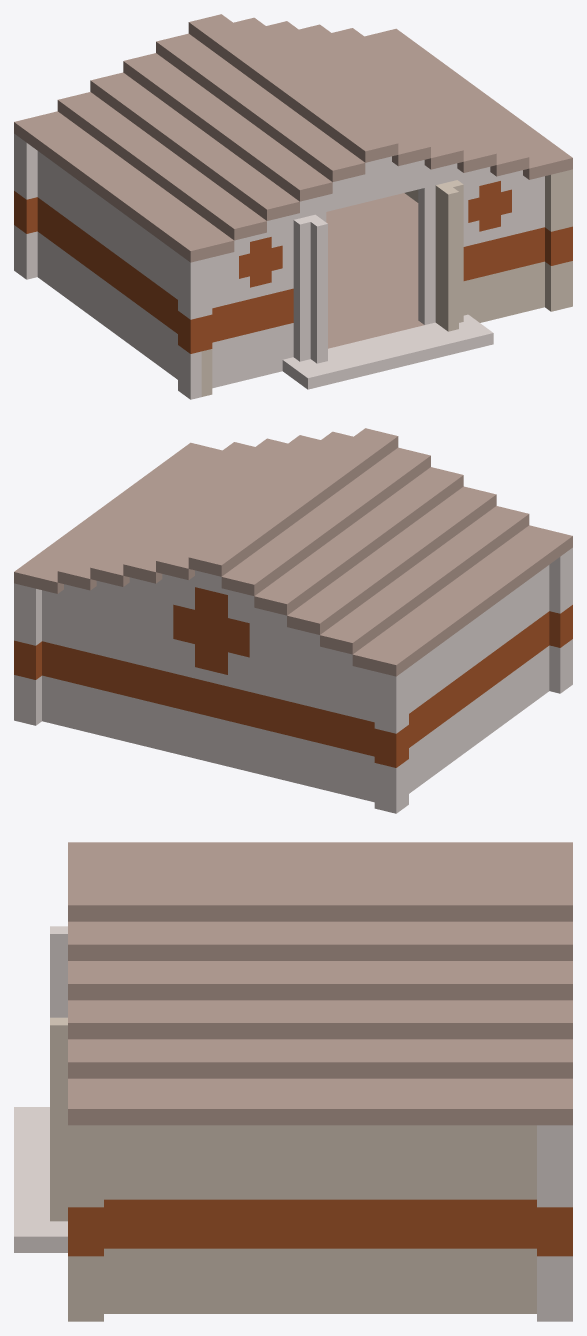
The model's file is Hospital-41.obj.
3 views of the same model, one above another, from view 1: azimuth 30°, elevation 25°; view 2: azimuth 150°, elevation 25°; view 3: azimuth 270°, elevation 25° (orthographic). The views are drawn at different scales.
Size of the model in its own units: 3.5 by 1.8 by 3.1.
Materials: 1 (1 with a texture image).
